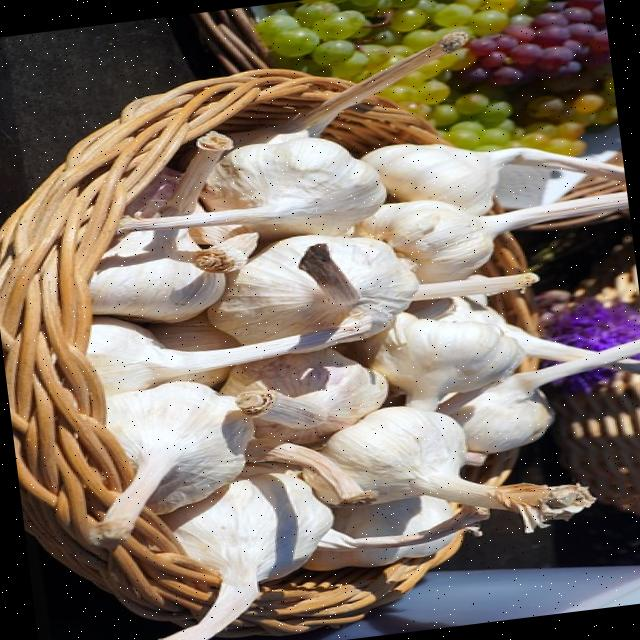garlic: (322, 406, 595, 531), (161, 467, 332, 640), (118, 137, 385, 240), (89, 382, 253, 546), (355, 192, 627, 283), (207, 234, 419, 345), (86, 313, 370, 395), (362, 144, 625, 215), (87, 228, 258, 322), (223, 349, 387, 443), (370, 312, 524, 411), (151, 130, 232, 217)
